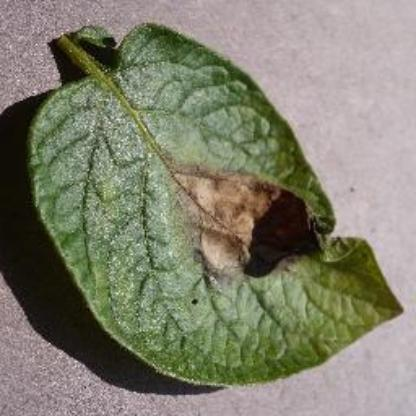Late-Blight: (14, 20, 398, 384)
